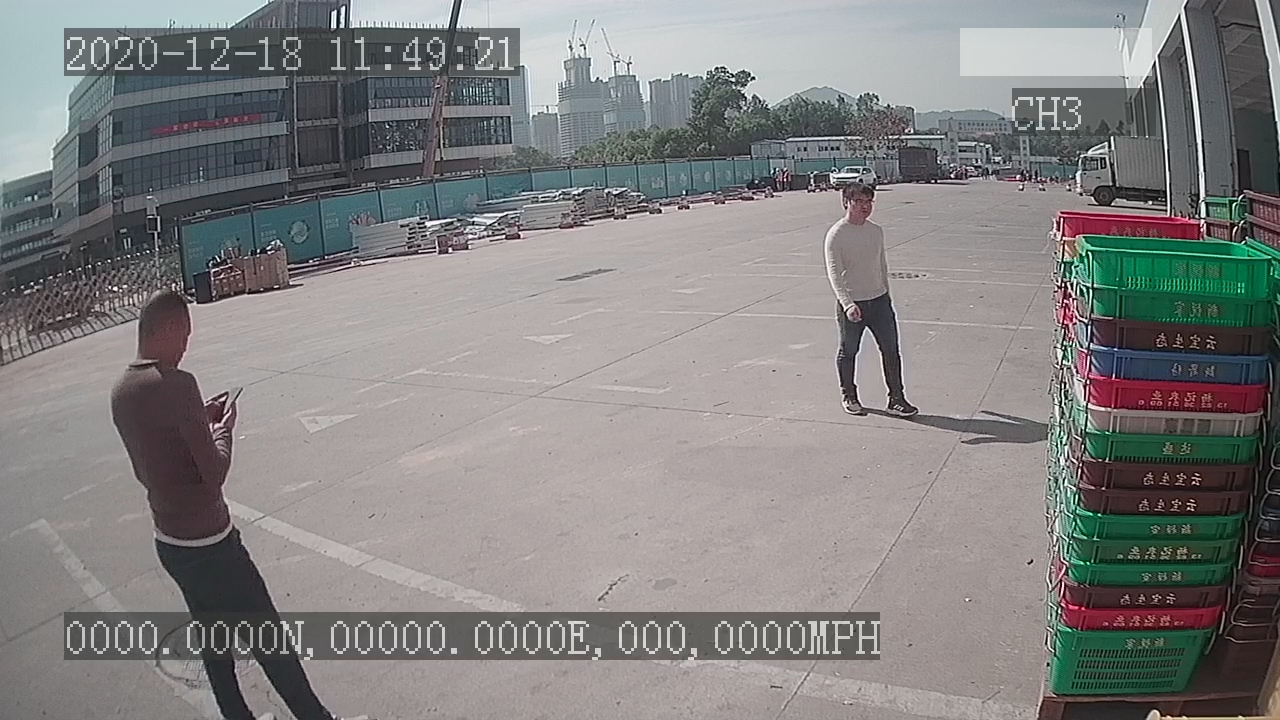person: (817, 177, 924, 422)
